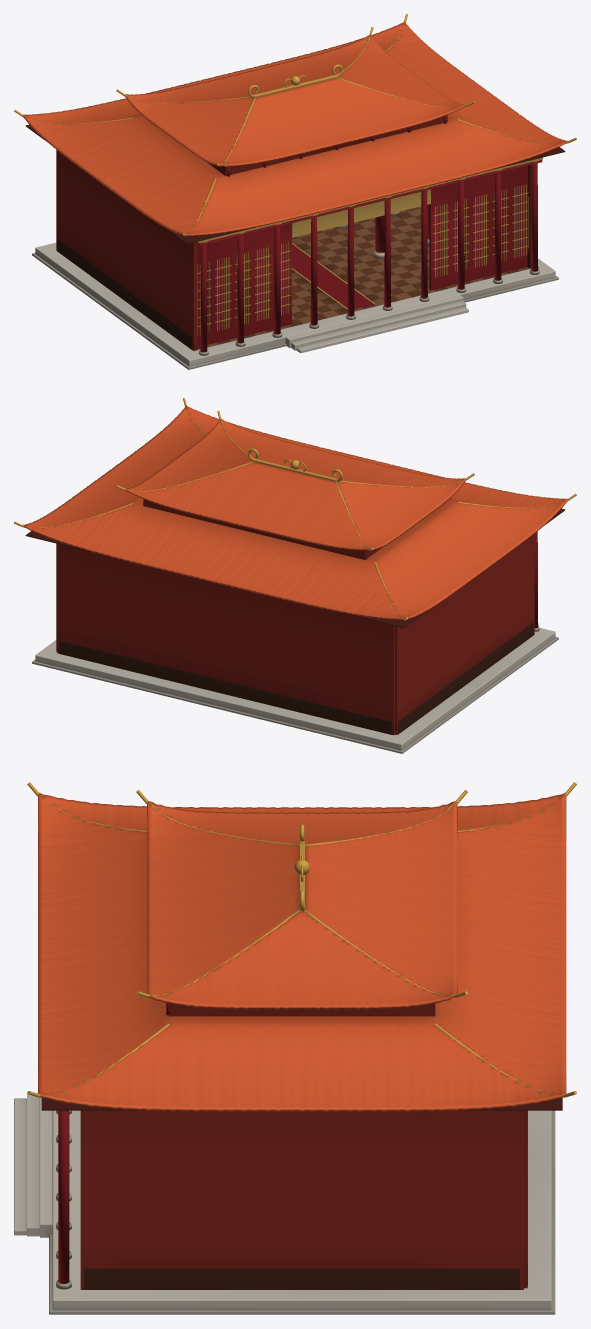
File: tam-thanh.glb
The picture shows the model from 3 angles, top to bottom: view 1: azimuth 30°, elevation 25°; view 2: azimuth 150°, elevation 25°; view 3: azimuth 270°, elevation 25°; orthographic projection. The views are drawn at different scales.
Parts seen in each view (by area): view 1: tam-thanh-shell; view 2: tam-thanh-shell; view 3: tam-thanh-shell.
Part boxes in pixels (x1=…): tam-thanh-shell: x1=14, y1=14, x2=576, y2=369; tam-thanh-shell: x1=14, y1=398, x2=576, y2=753; tam-thanh-shell: x1=14, y1=782, x2=576, y2=1314.
Size of the model in its own units: 39.76 by 18.57 by 30.48.
